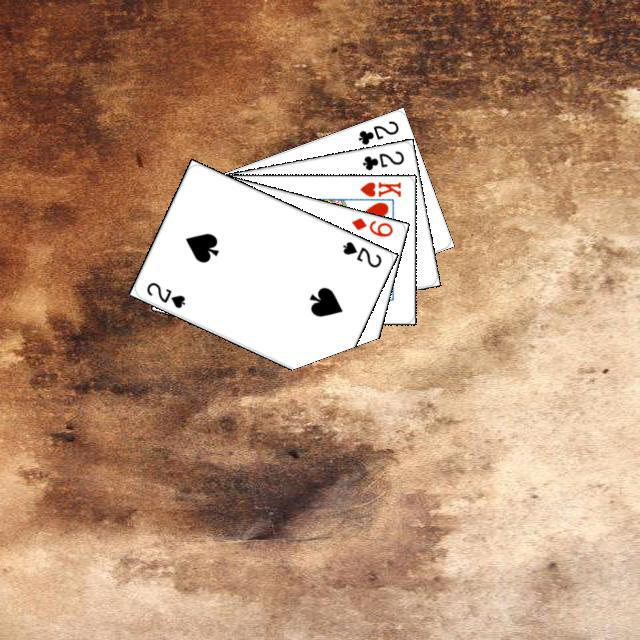2c: (353, 116, 400, 147), (357, 146, 406, 172)
2s: (141, 277, 187, 310), (338, 236, 383, 269)
9d: (346, 213, 395, 239)
Kh: (351, 177, 402, 204)
